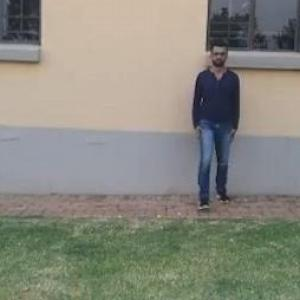follow: (193, 36, 242, 206)
